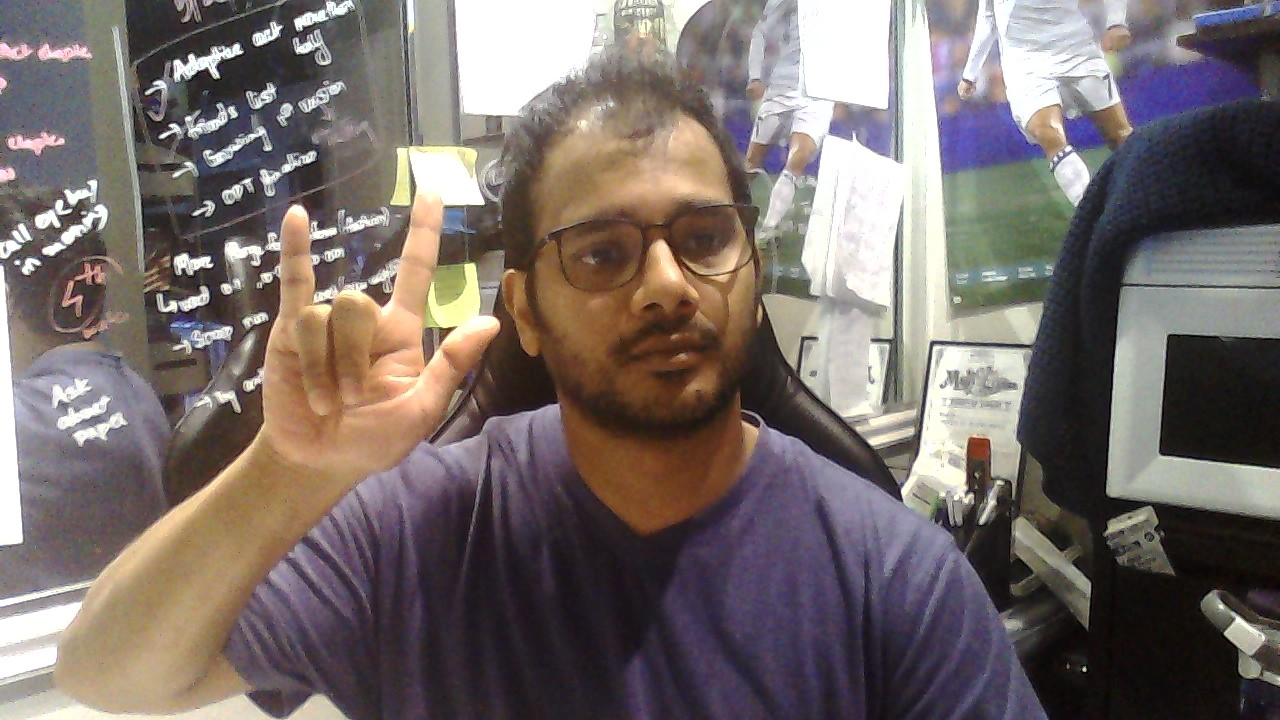ILoveYou: (262, 183, 501, 474)
